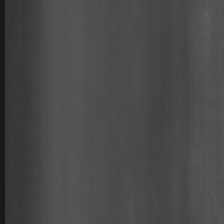silk_spot: (184, 56, 222, 192)
